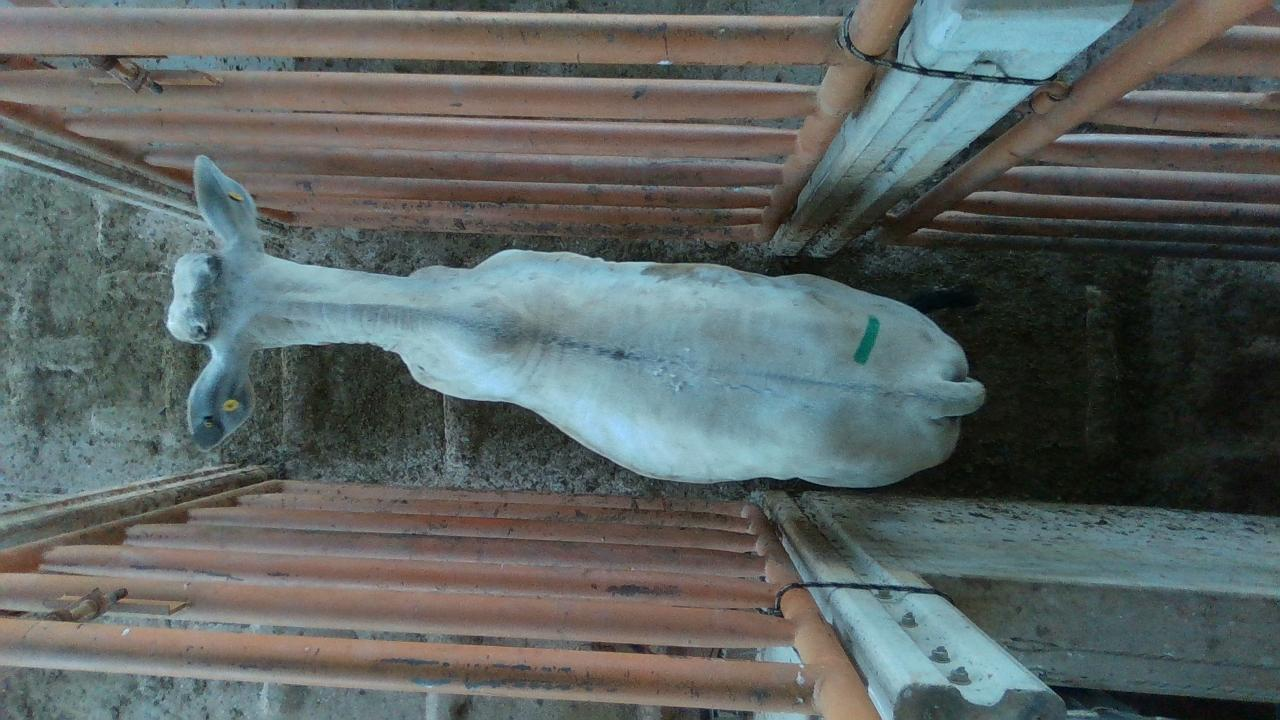cattle: (164, 152, 987, 490)
